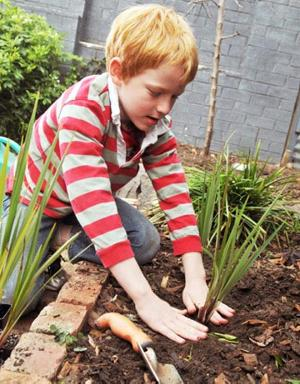person: (1, 6, 236, 348)
